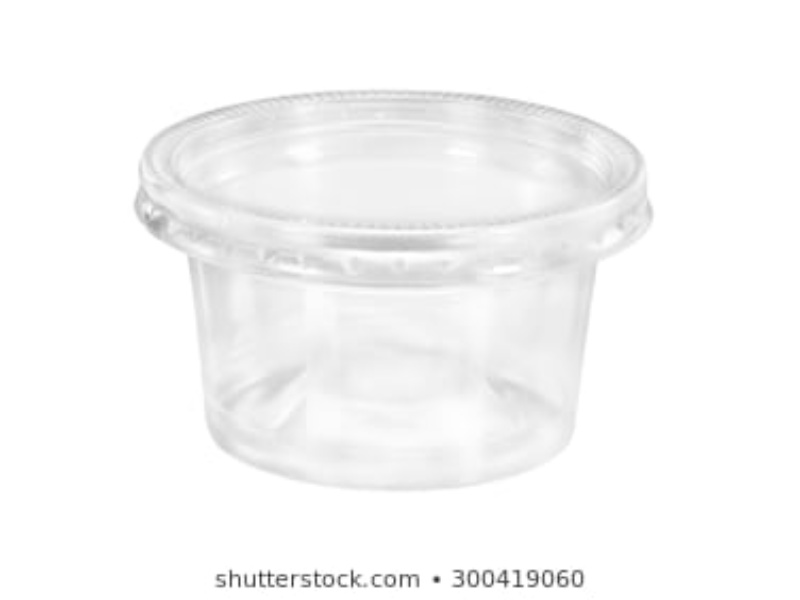plastic-container: (130, 88, 646, 492)
